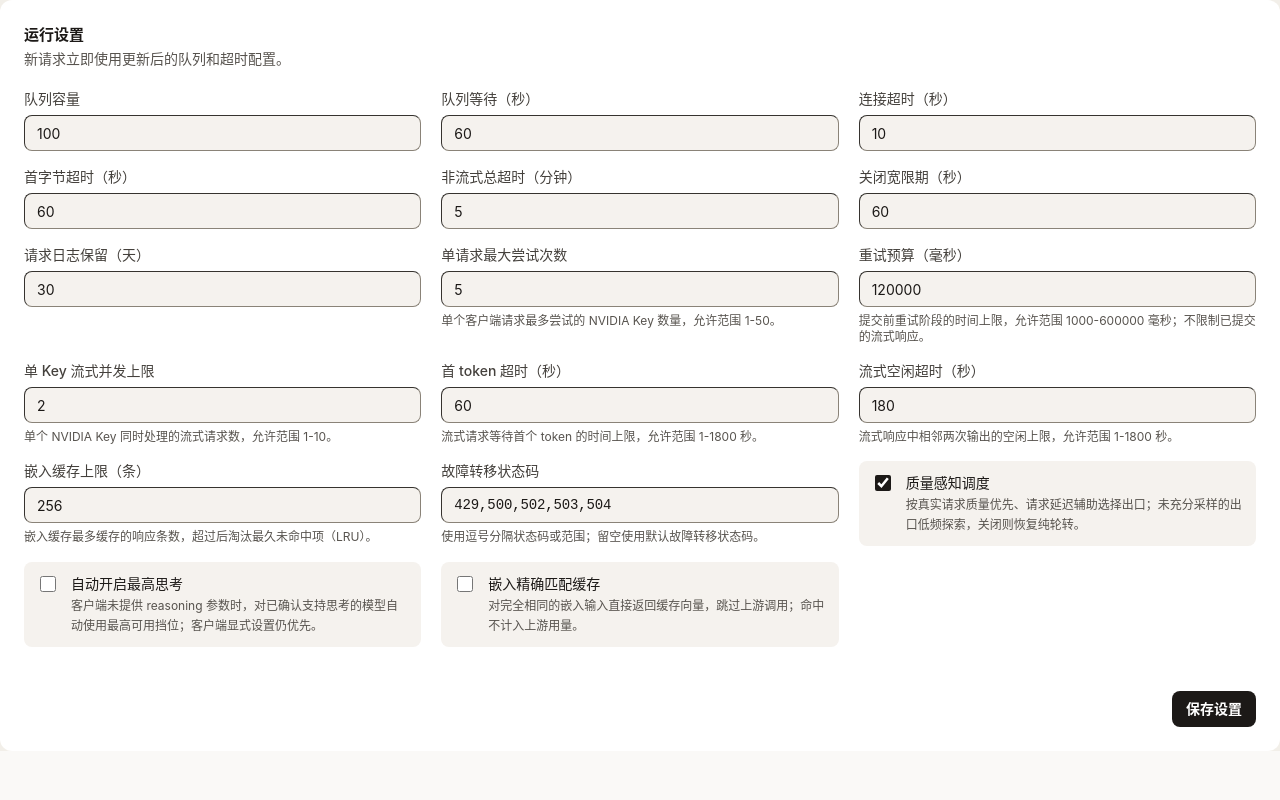
SettingsForm › rejects a fractional value for integer input queue-wait-seconds
Replace the text in the number field with test id "queue-wait-seconds" with "1.5" at point(640, 133), box [441,115,839,151]
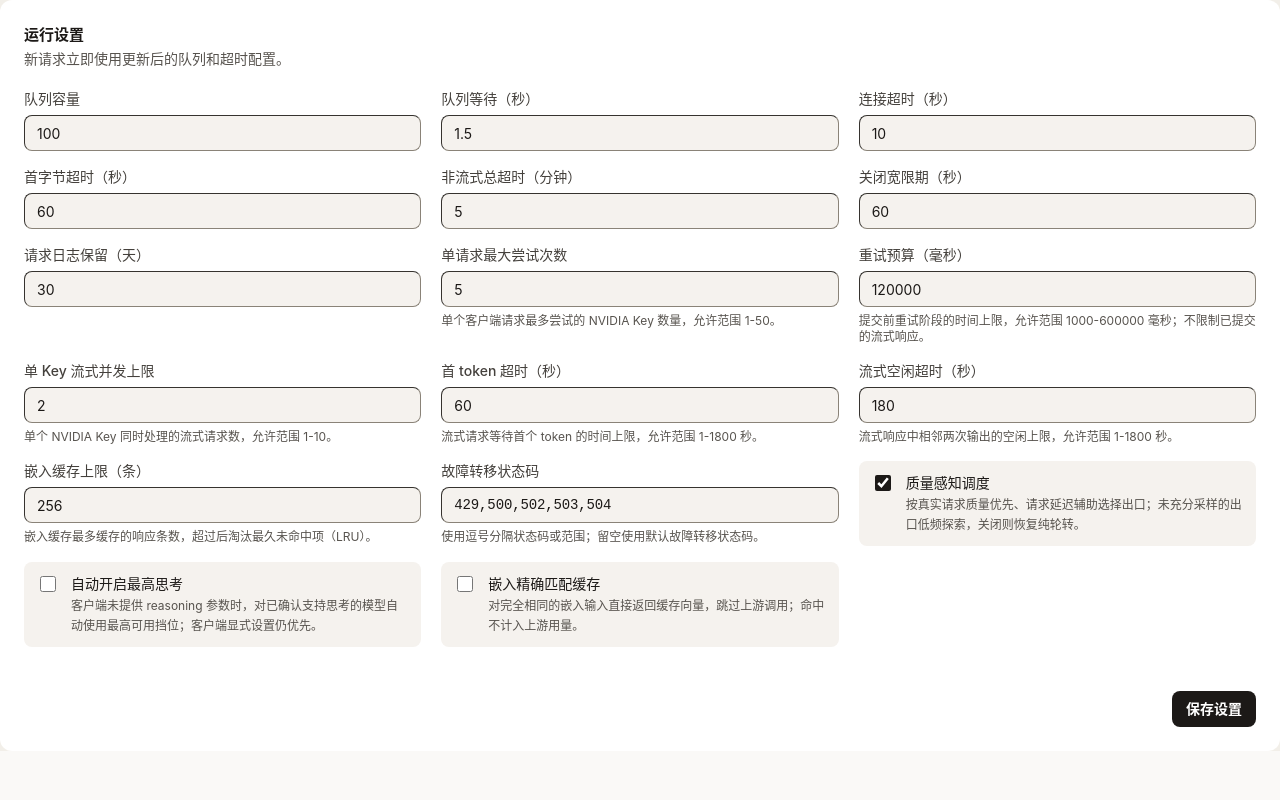
Submit the form with test id "runtime-settings-form"
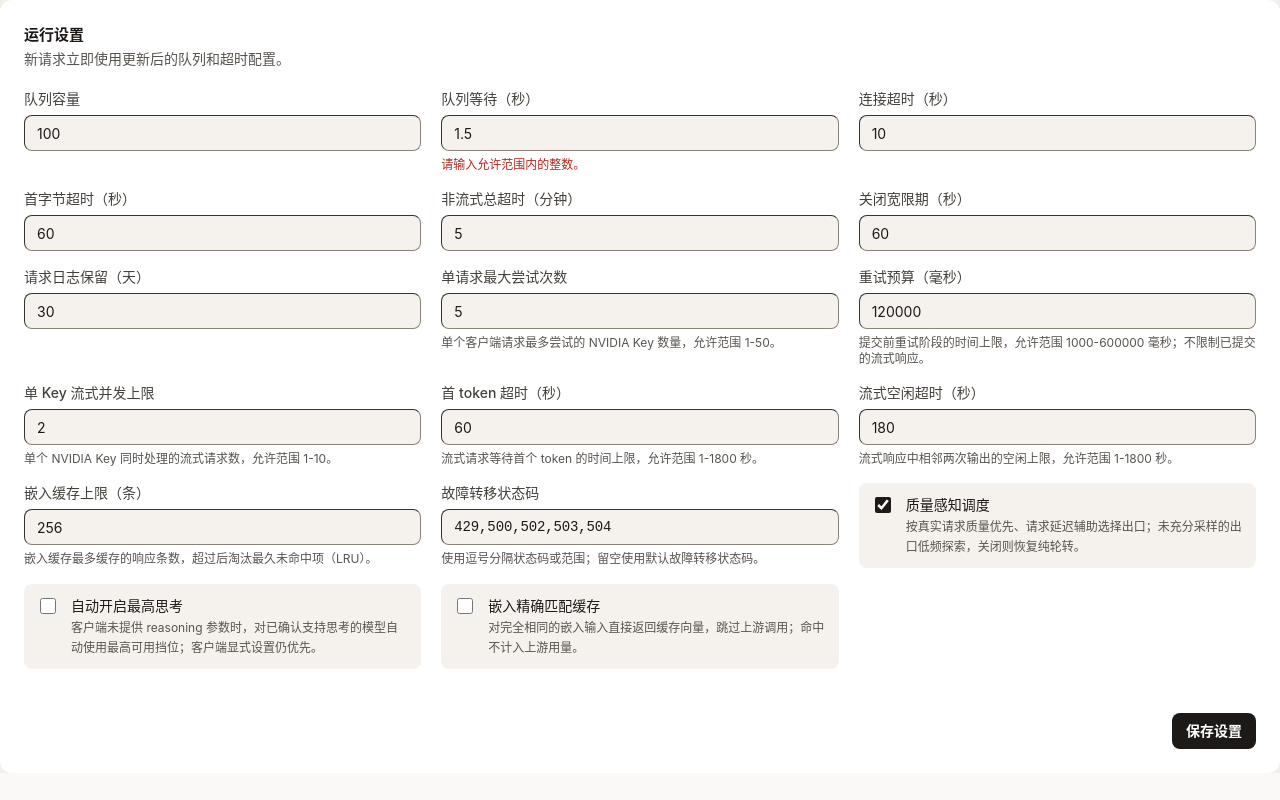
Check: the message with test id "error-queue_wait_timeout_ms" shows "整数", box [441,157,585,172]
